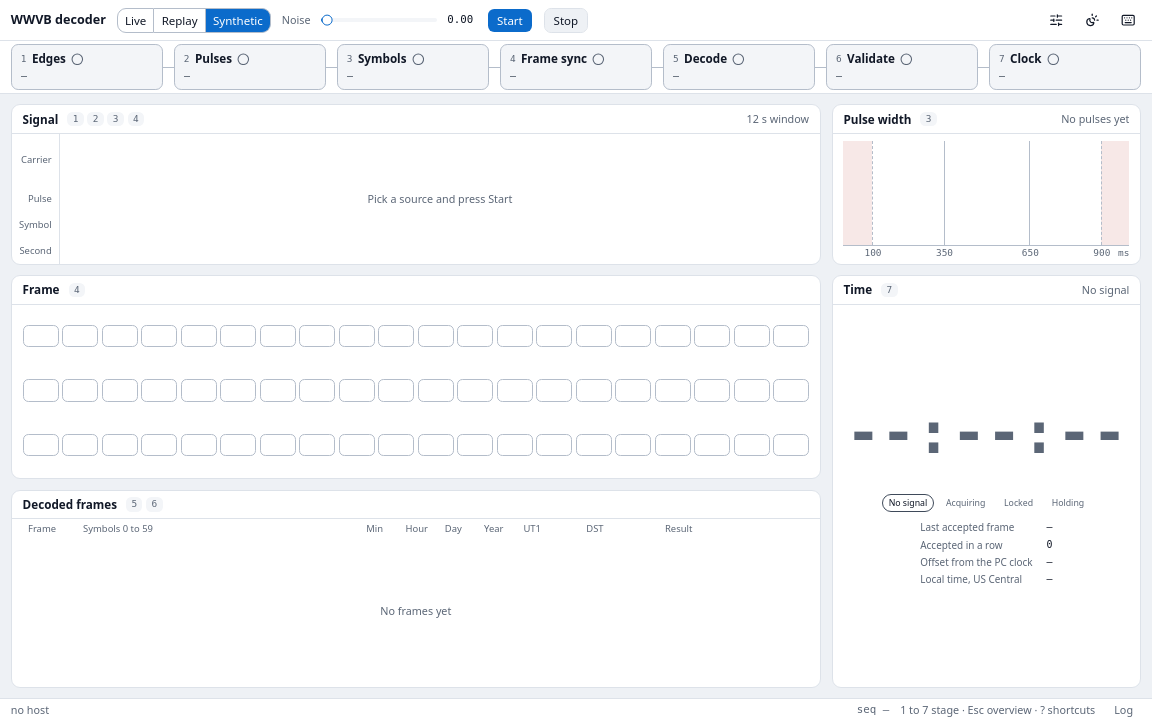
App › opens the shortcut list on ? and from the app bar
This screenshot has width=1152, height=720.
Type keys "?"
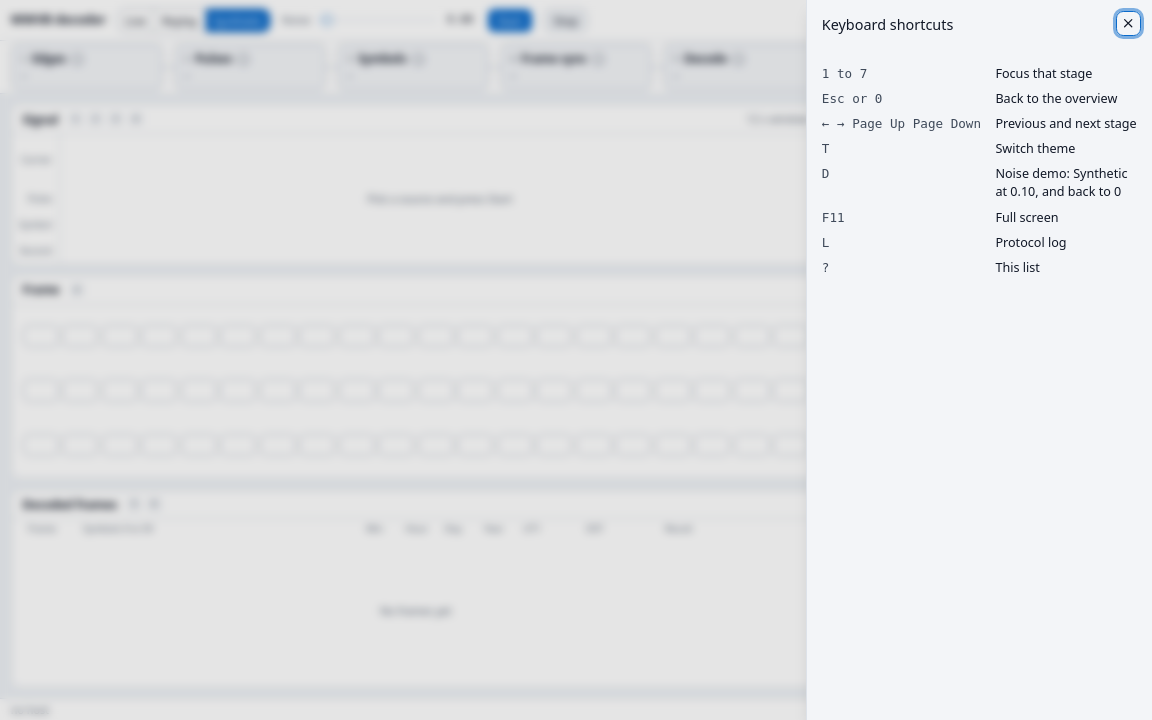
Result: the dialog "Keyboard shortcuts" is shown at [806,0,1151,719]
Type keys "?"
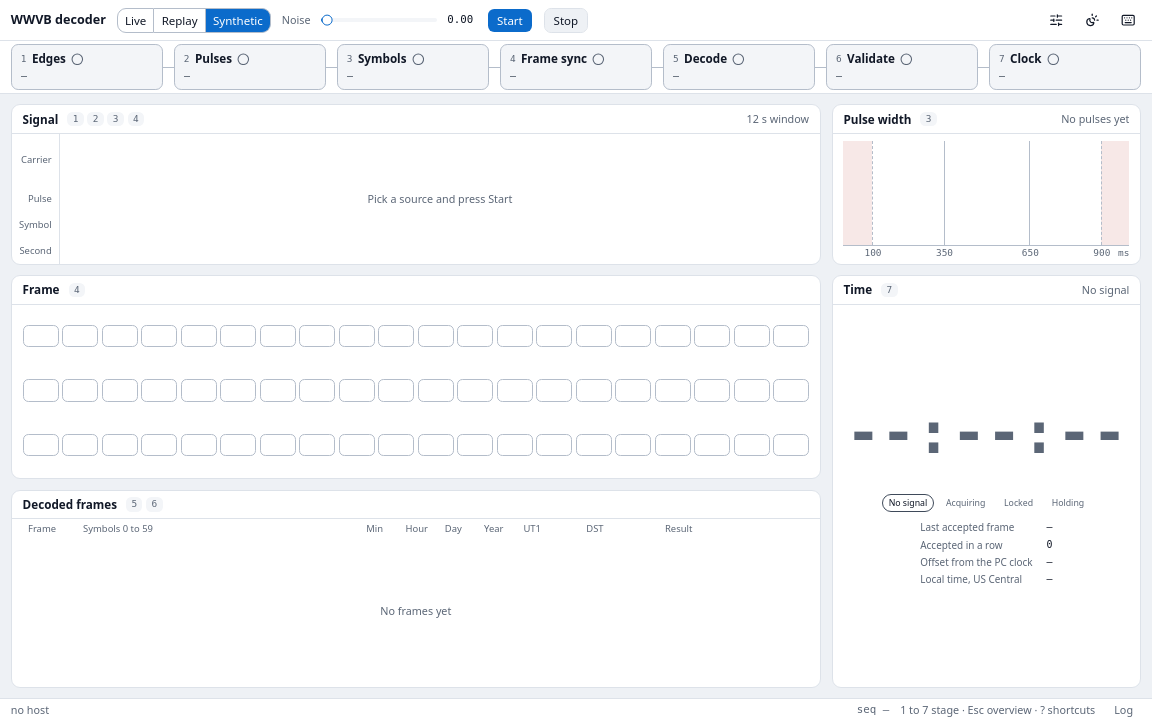
Result: the dialog is gone
Click the button named "Keyboard shortcuts" at (1129, 20), box [1116,8,1141,33]
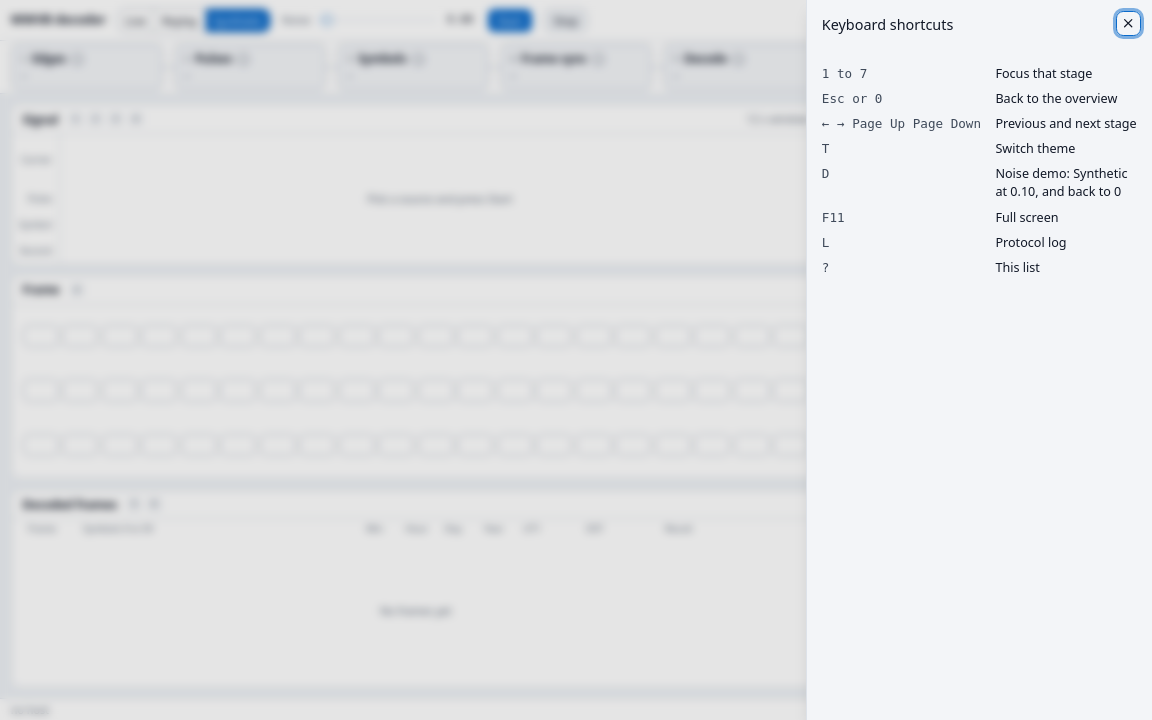
Result: the dialog "Keyboard shortcuts" is shown at [806,0,1151,719]
